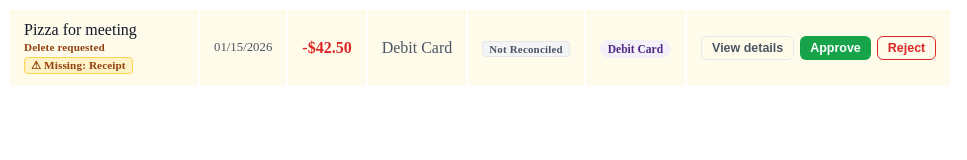
Test: TransactionRow › pending changes › shows a delete-warning message for delete-type pending changes when viewing details
Expected: the text "Delete requested" is shown, [24,41,105,53]
Expected: the text "permanently deleted" is not shown
Click the button "View details".
click(748, 48)  # box [701,36,794,60]
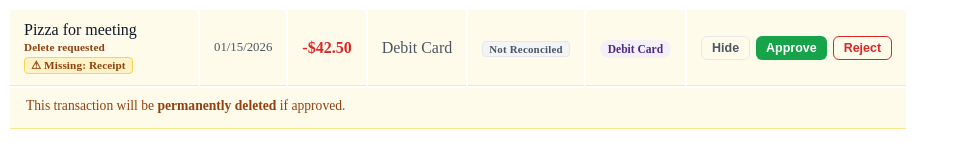
Result: the text "permanently deleted" is shown at [157,98,276,113]
